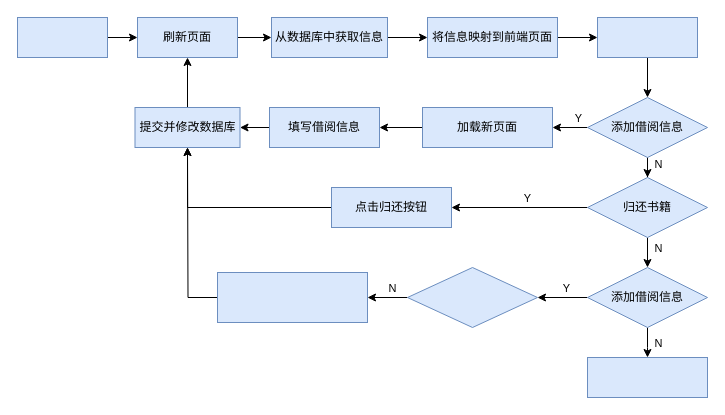
Image size: 725x415. Some labels were removed from this diagram. The shapes that lost their labels are listed below. From the top down, each one's centre as x and y in pixels, then its label:
At (x=62, y=37): "开始".
At (x=647, y=37): "展示借阅信息".
At (x=292, y=297): "修改归还时间，延迟一个月".
At (x=472, y=297): "之前是否有续借过".
At (x=647, y=377): "结束".
